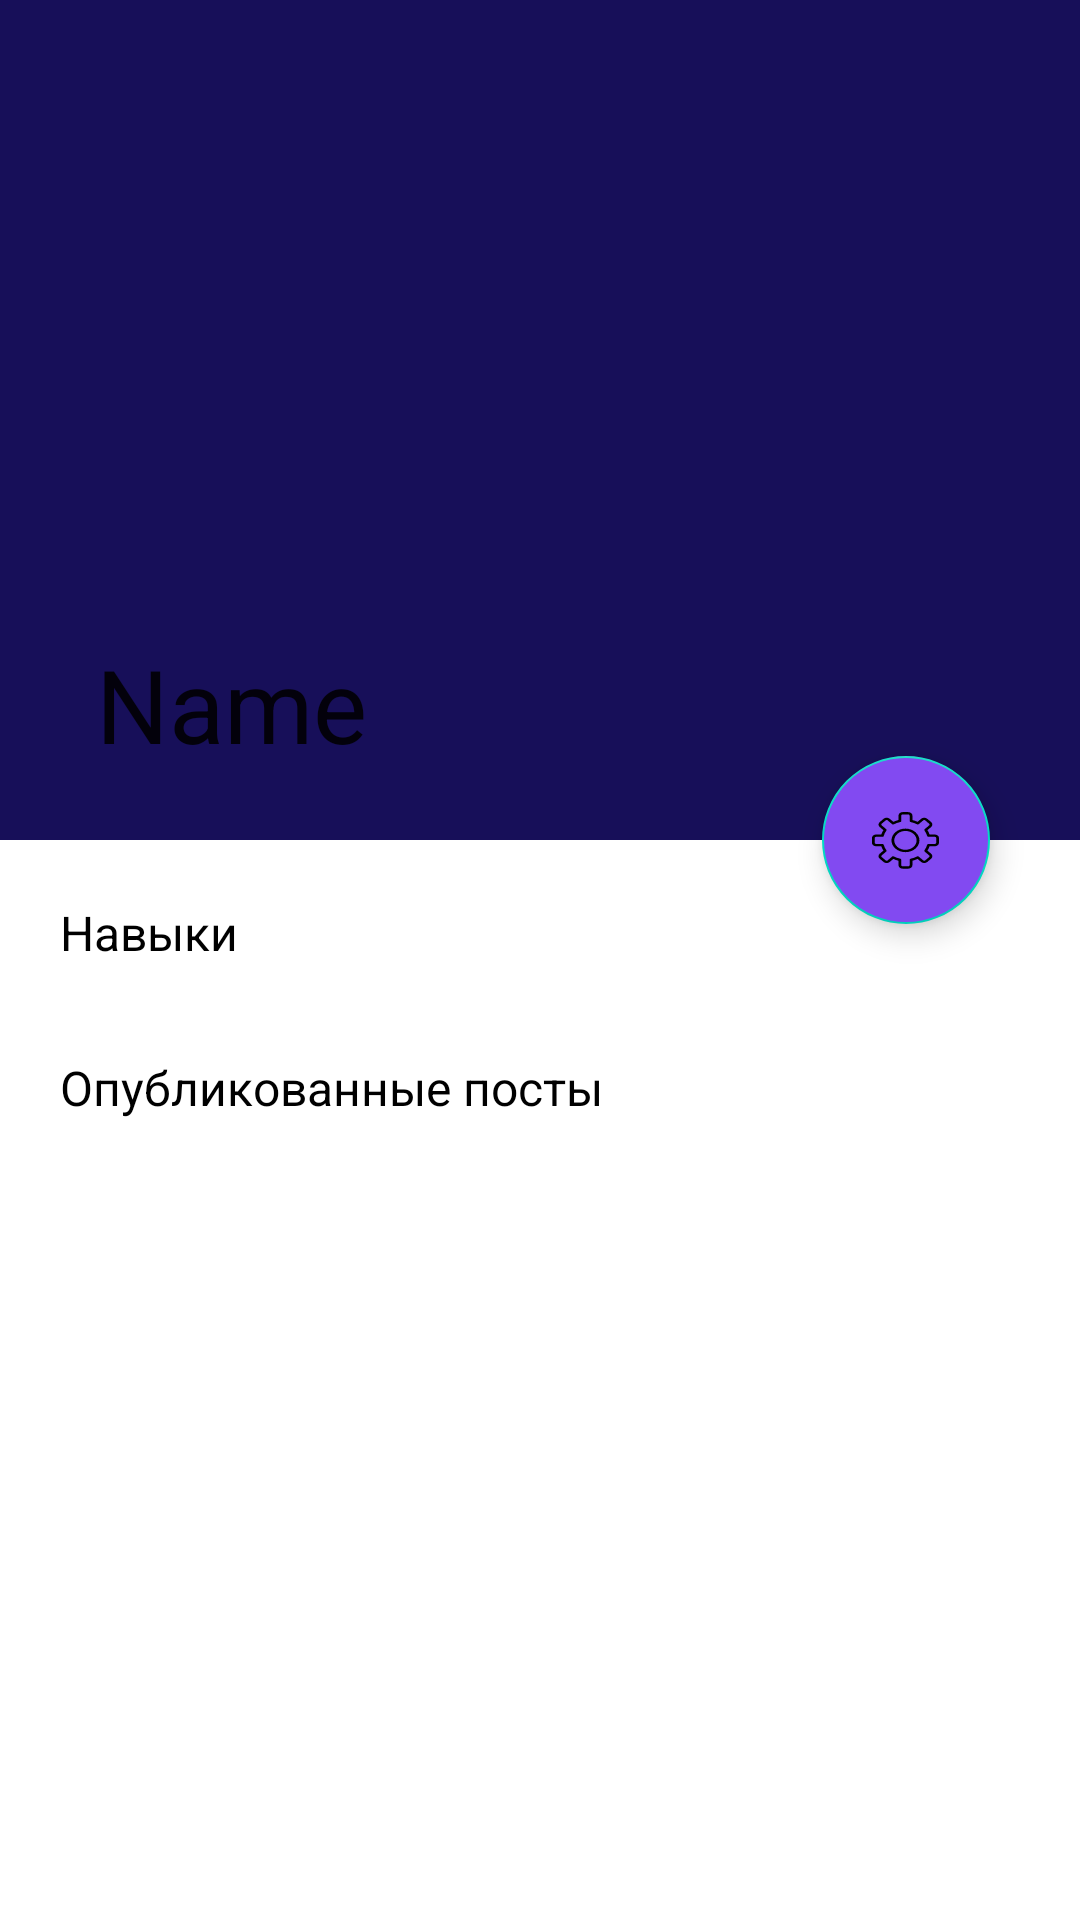

Icon click points for this 1080px×1920px phone screenshot, format (x=x, y=y):
settings: (x=906, y=840)
